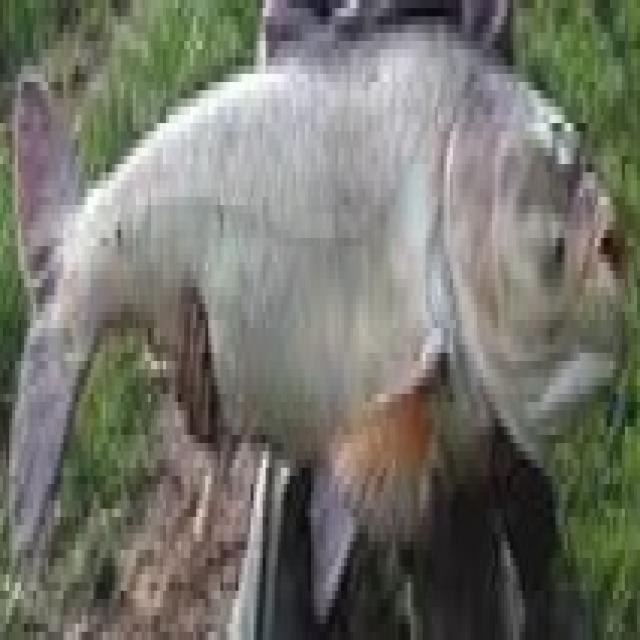Big-Head-Carp: (9, 40, 640, 625)
